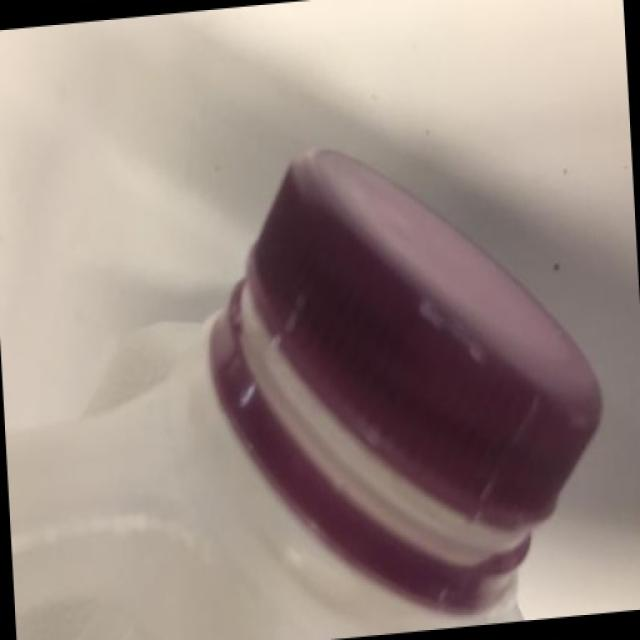plastico: (14, 135, 634, 639)
